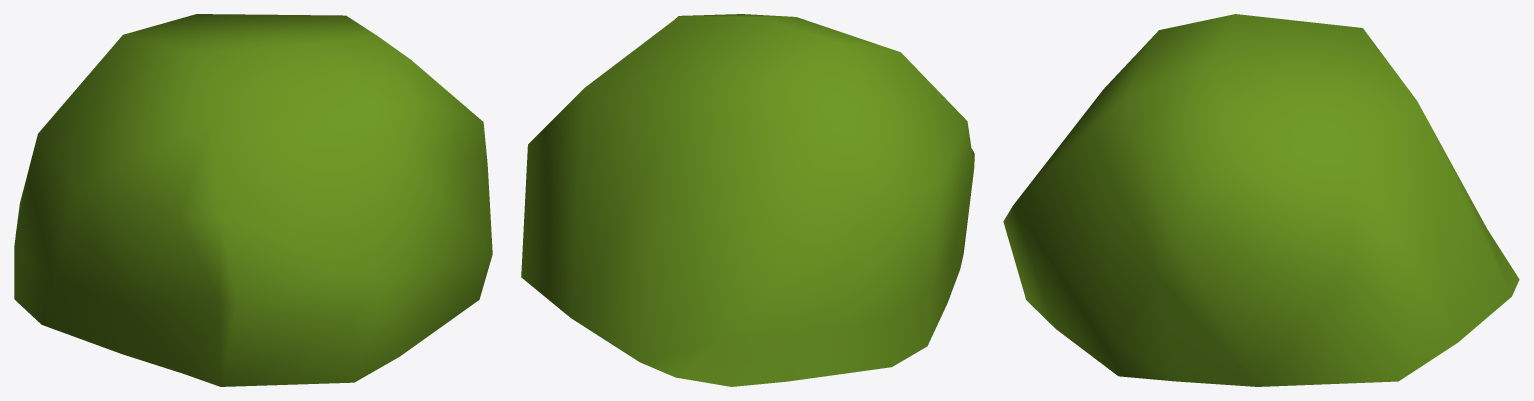
Rendered from candle_stone2.fbx.
3 renders of one model, left to right at view 1: azimuth 30°, elevation 25°; view 2: azimuth 150°, elevation 25°; view 3: azimuth 270°, elevation 25°, orthographic. The views are drawn at different scales.
Visible parts, largest first — view 1: stonegreen2_low; view 2: stonegreen2_low; view 3: stonegreen2_low.
Boxes of the visible parts, x1=… form: stonegreen2_low: x1=14, y1=14, x2=492, y2=386; stonegreen2_low: x1=521, y1=14, x2=974, y2=386; stonegreen2_low: x1=1003, y1=14, x2=1519, y2=386.
Bounding box in the file's own units: 4512 × 5101 × 2869.
